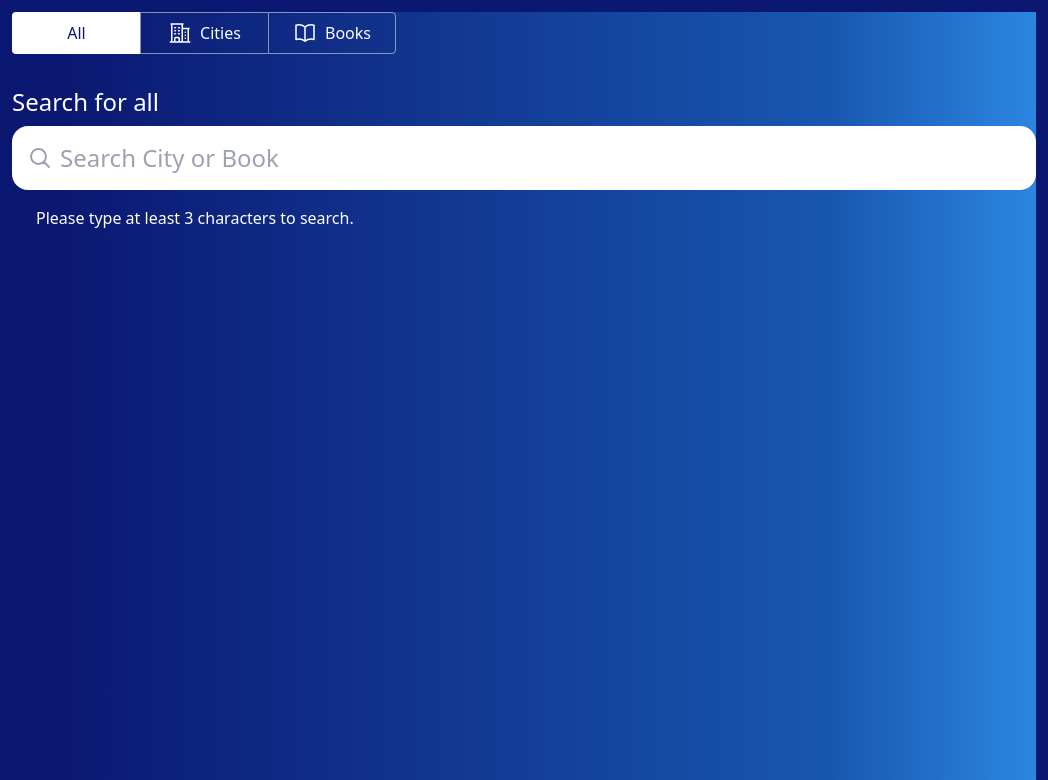
Test: Autocomplete Integration › changes search label when changing clicking other search categories
Click the button "books" at (332, 33), box [268,12,396,54]
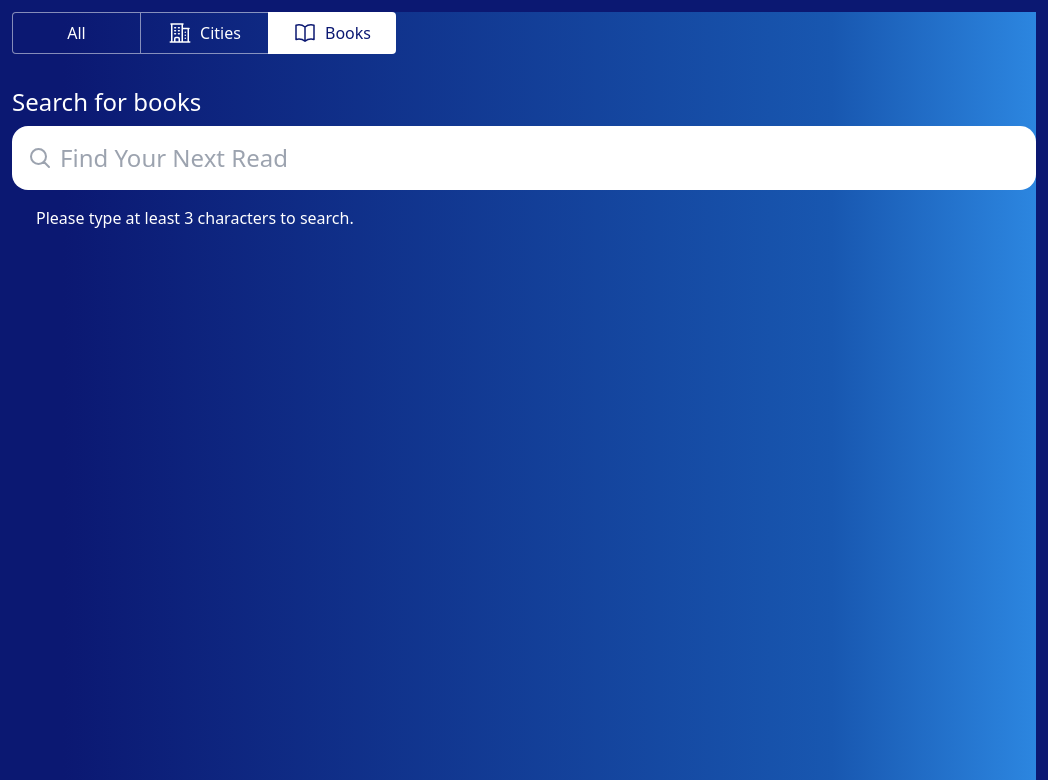
Expected: the text "Search for books" is shown, [12,85,201,118]
Click the button "cities" at (204, 33), box [140,12,268,54]
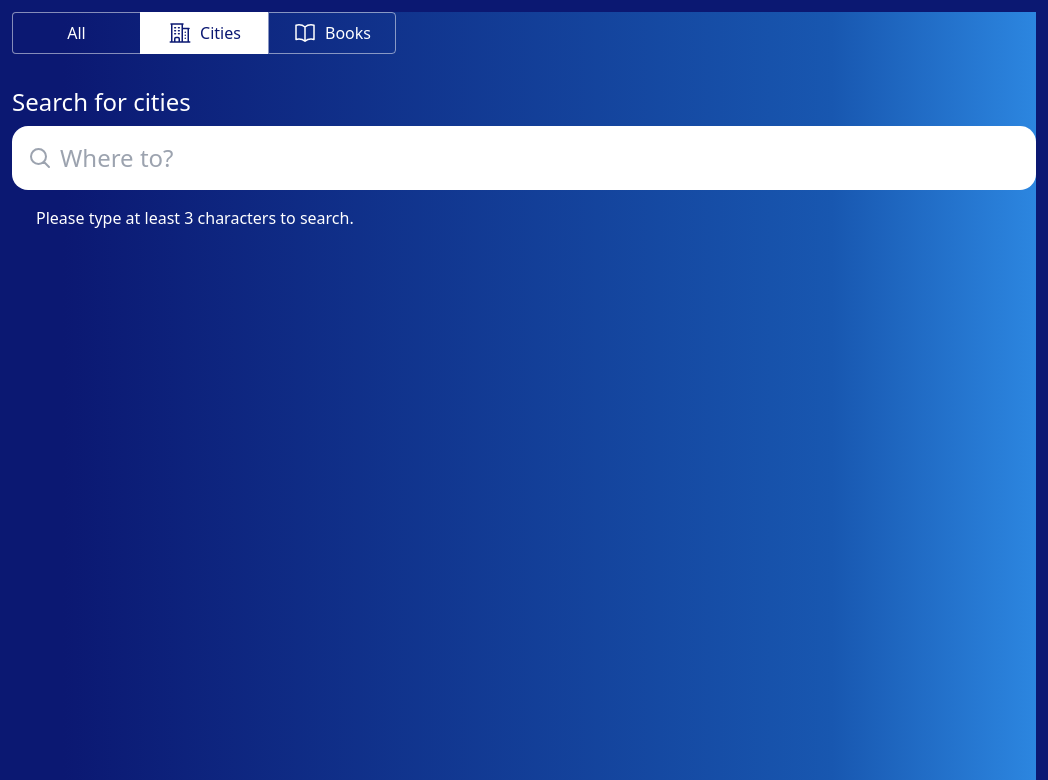
Expected: the text "Search for cities" is shown, [12,85,191,118]
Click the button "all" at (76, 33), box [12,12,140,54]
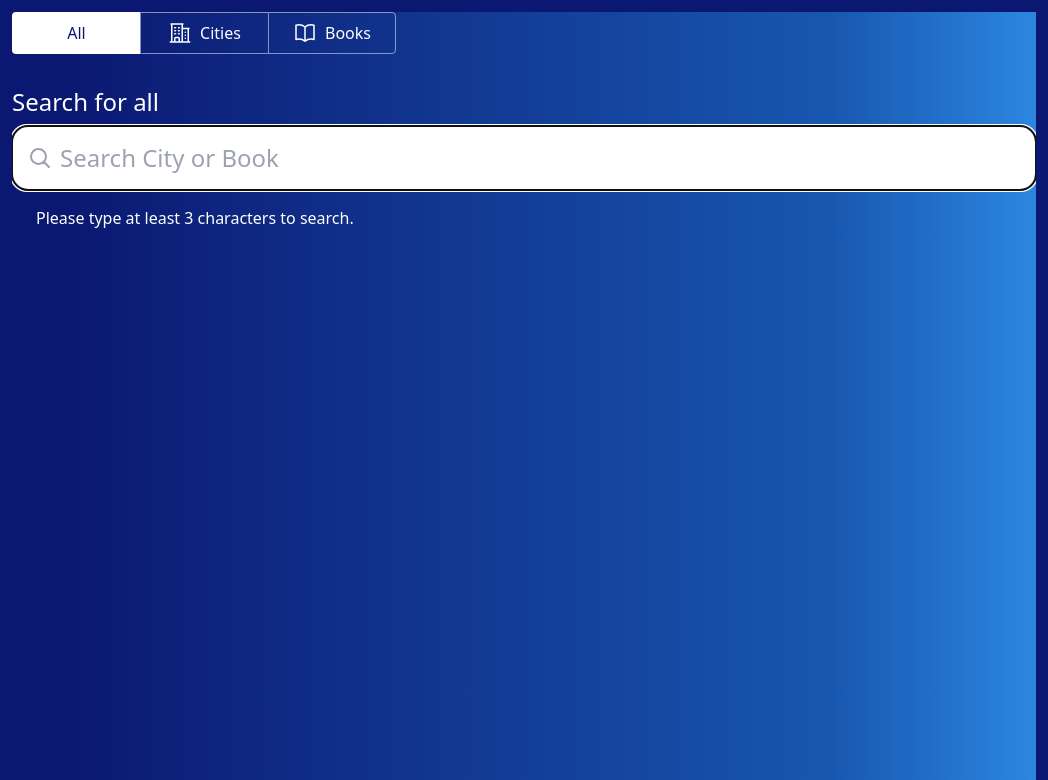
Expected: the text "Search for all" is shown, [12,85,159,118]
